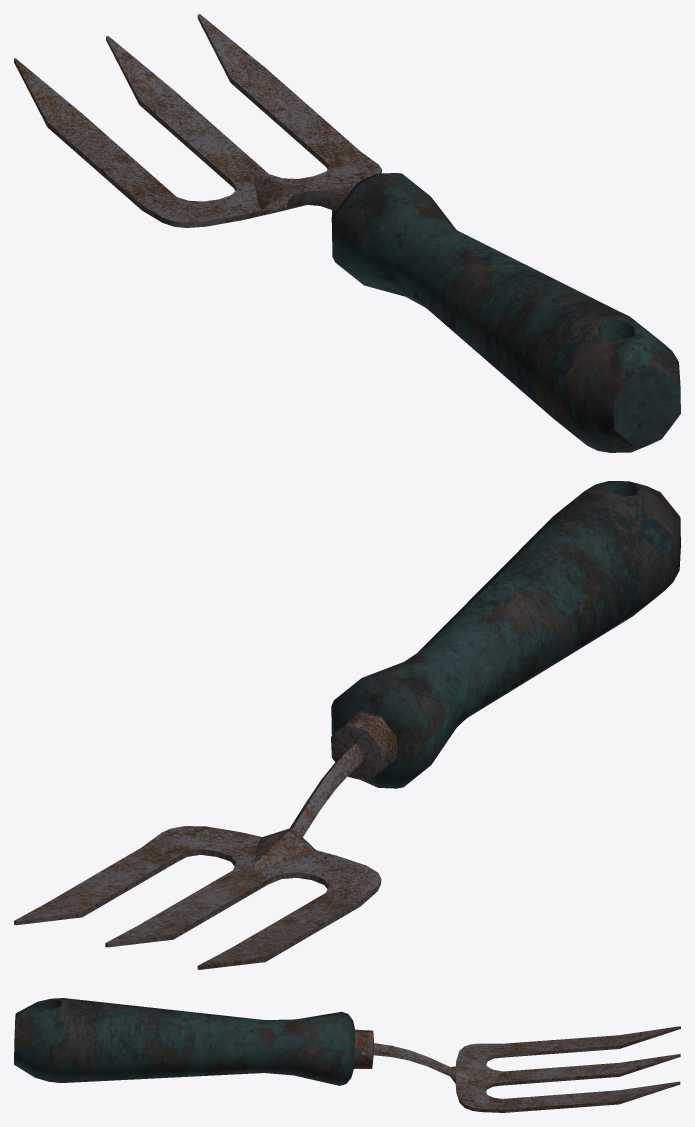
File: fork_2.glb
The picture shows the model from 3 angles, top to bottom: view 1: azimuth 30°, elevation 25°; view 2: azimuth 150°, elevation 25°; view 3: azimuth 270°, elevation 25°; orthographic projection. The views are drawn at different scales.
Parts seen in each view (by area): view 1: da314b97597e440c86cb40c446c281fe; view 2: da314b97597e440c86cb40c446c281fe; view 3: da314b97597e440c86cb40c446c281fe.
Part boxes in pixels (x1=…): da314b97597e440c86cb40c446c281fe: x1=14, y1=14, x2=680, y2=452; da314b97597e440c86cb40c446c281fe: x1=14, y1=481, x2=680, y2=969; da314b97597e440c86cb40c446c281fe: x1=14, y1=998, x2=680, y2=1112.
Size of the model in its own units: 0.2335 by 0.1329 by 0.9989.
Materials: 1 (1 with a texture image).
